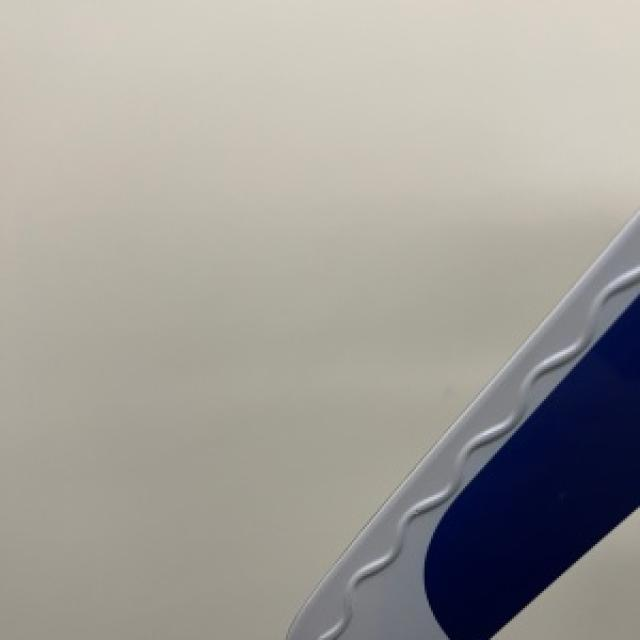healthy: (286, 211, 638, 638), (282, 4, 634, 275)
